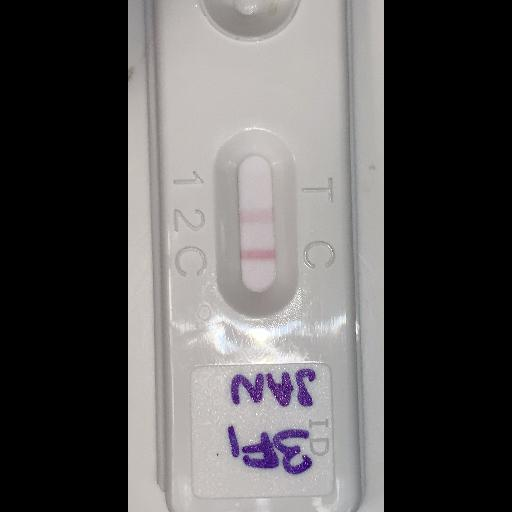Pos: (147, 0, 361, 511)
